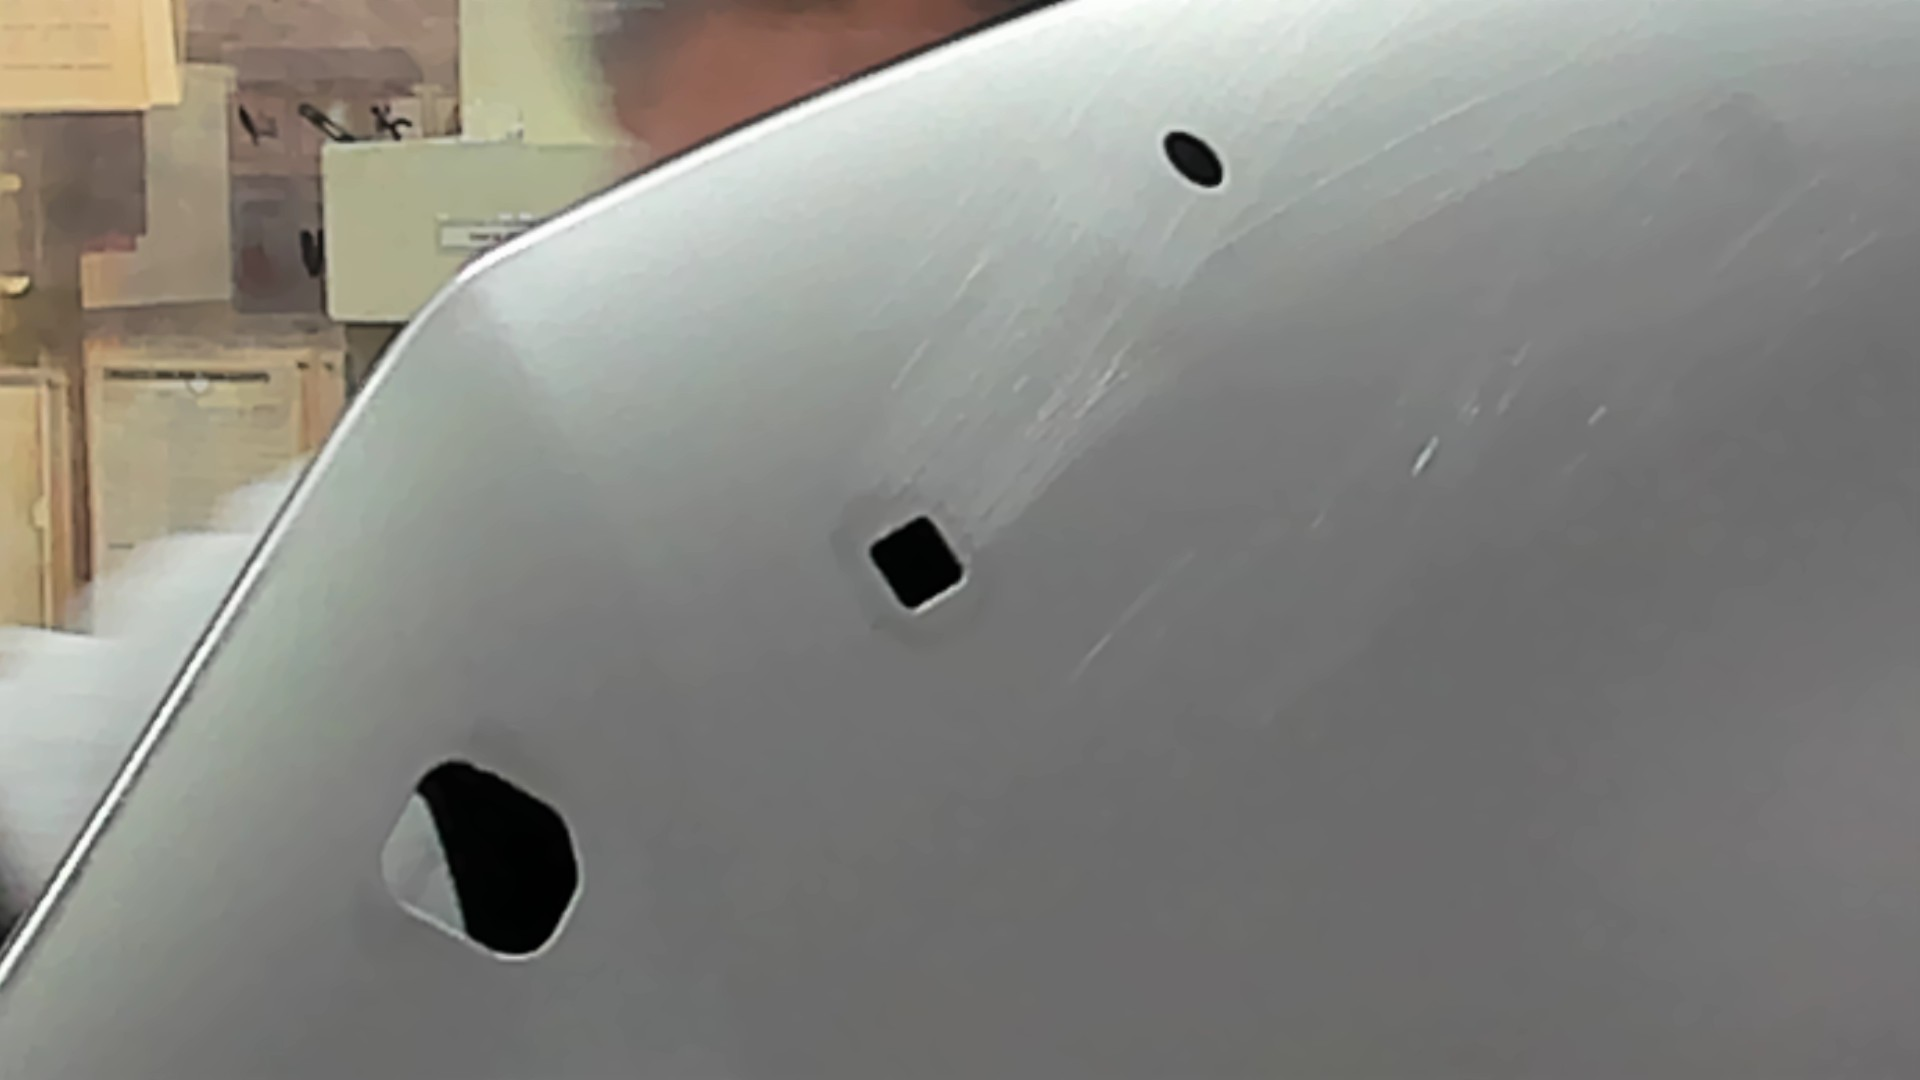chico: (1146, 117, 1246, 206)
grande: (355, 742, 616, 988)
mediano: (847, 496, 982, 618)
